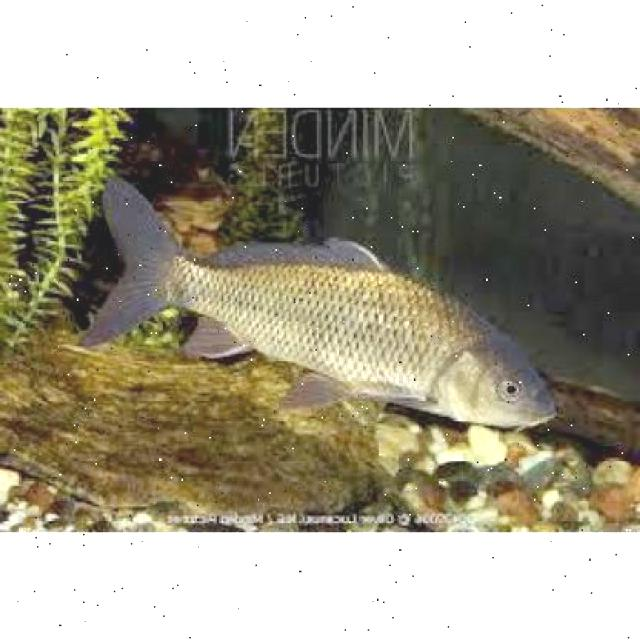ikan-mas: (99, 170, 556, 436)
